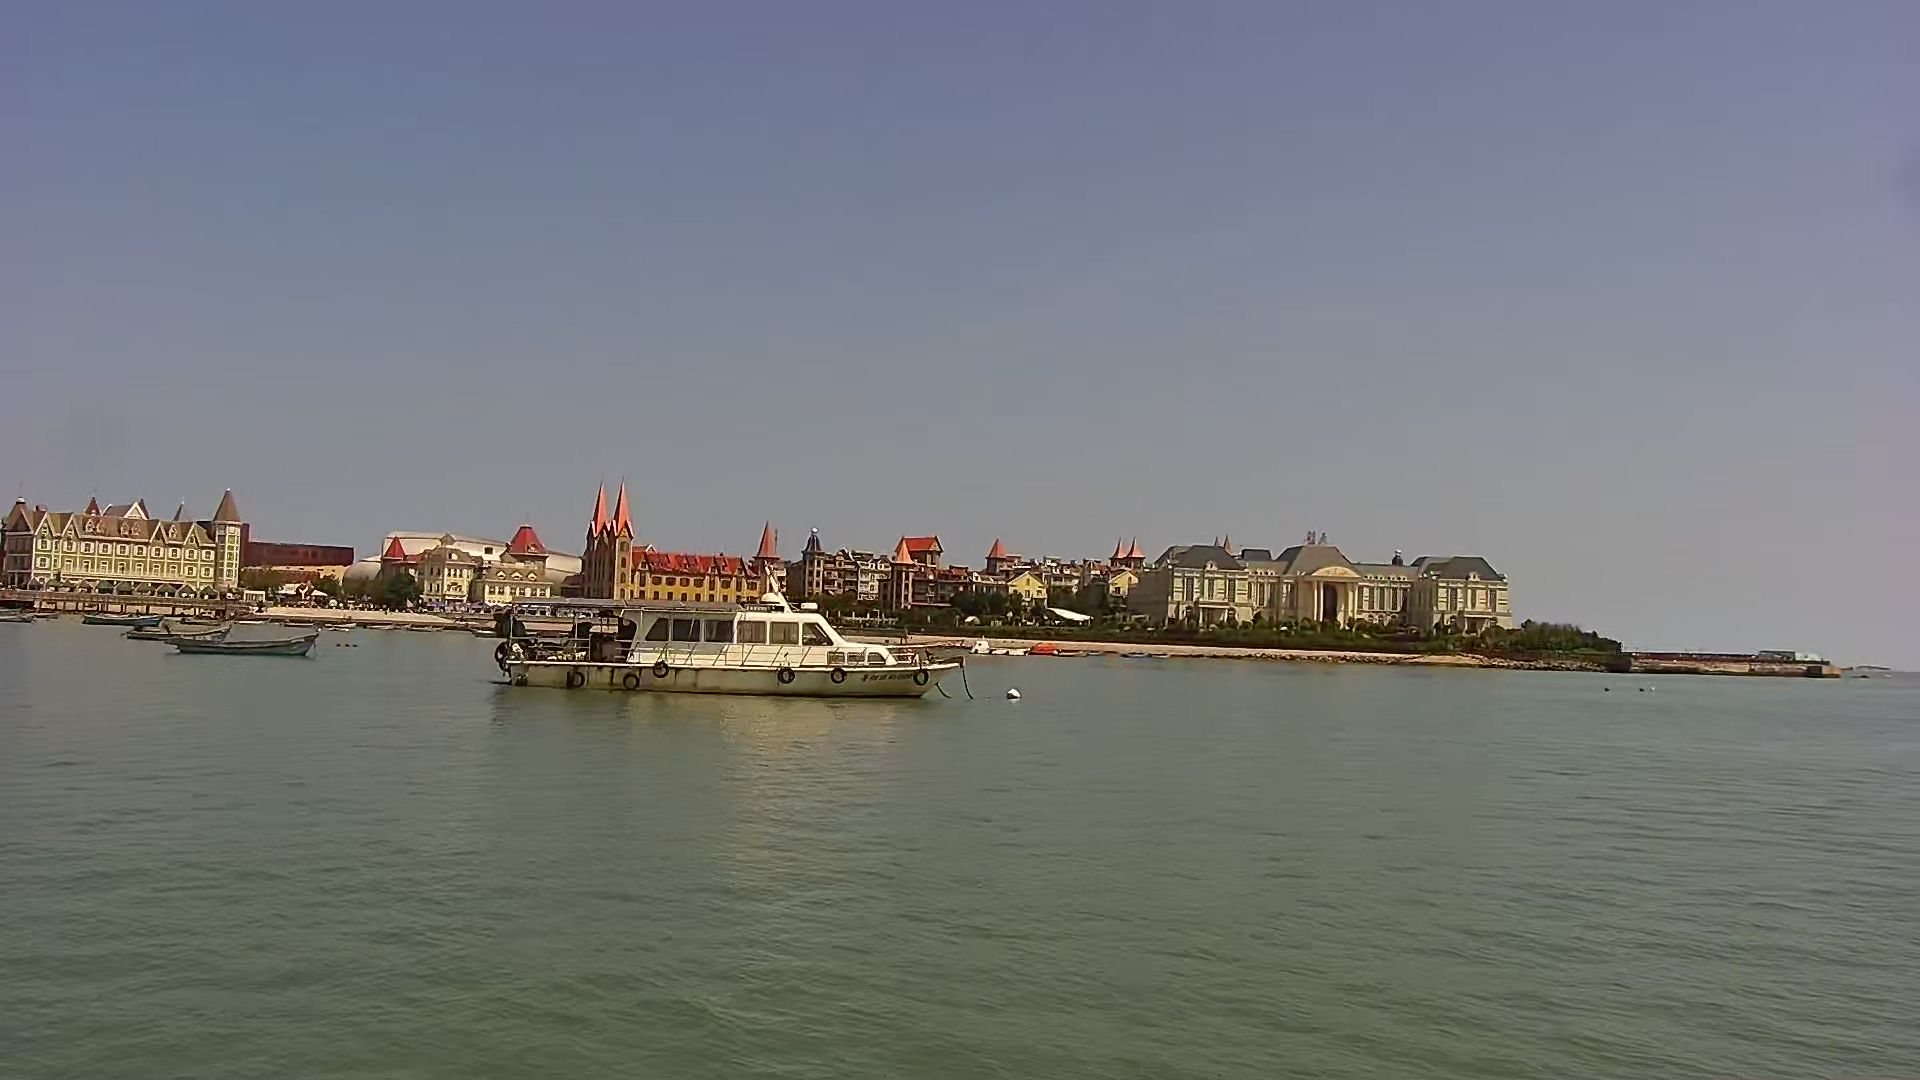ball: (1000, 683, 1029, 702)
boat: (164, 628, 328, 658)
ship: (500, 587, 973, 704)
